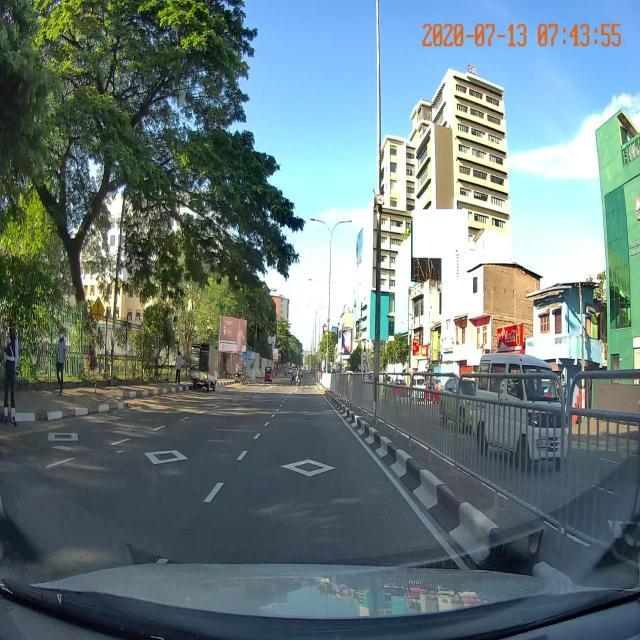diamond: (220, 450, 406, 489)
